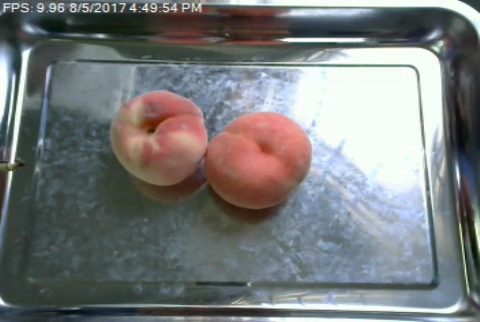Peach: (203, 111, 312, 208), (110, 89, 208, 187)
